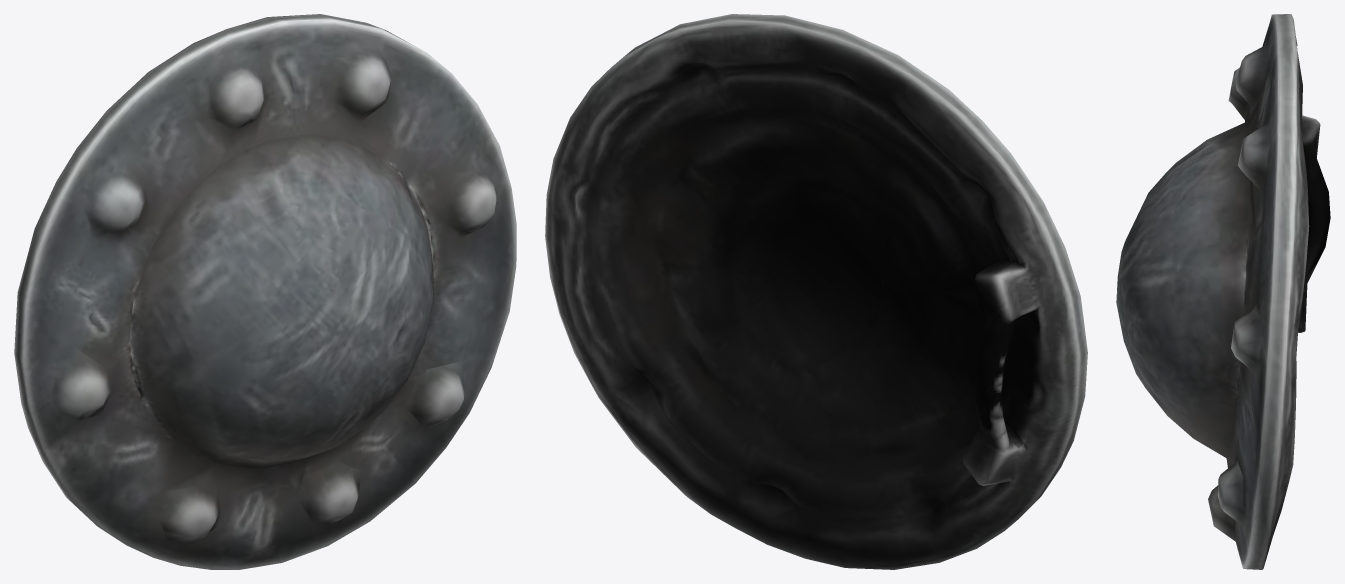
The model's file is Shield_Metal_3.glb.
3 renders of one model, left to right at view 1: azimuth 30°, elevation 25°; view 2: azimuth 150°, elevation 25°; view 3: azimuth 270°, elevation 25°, orthographic. The views are drawn at different scales.
Parts seen in each view (by area): view 1: shield_low.002; view 2: shield_low.002; view 3: shield_low.002.
Part boxes in pixels (x1,y1,x2,y2): shield_low.002: (14, 14, 516, 569); shield_low.002: (545, 14, 1087, 569); shield_low.002: (1116, 14, 1330, 569).
Bounding box in the file's own units: 0.4569 × 0.4549 × 0.1755.
1 material, 1 textured.
